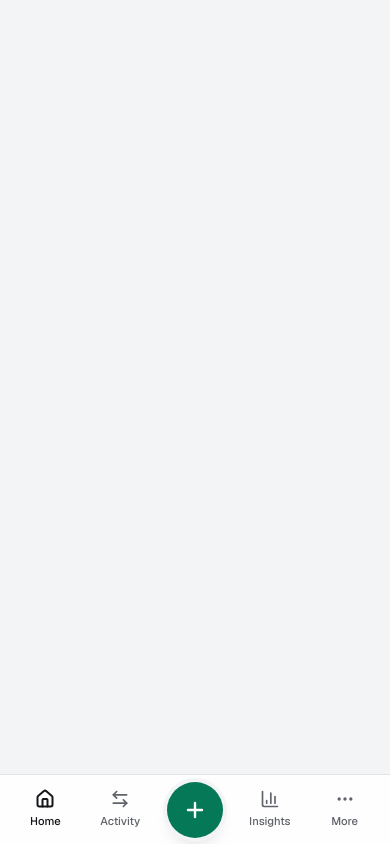
Test: MobileTabBar › More lists every page that is not a tab, and log out
Click the button "More" at (345, 810), box [307, 781, 382, 838]
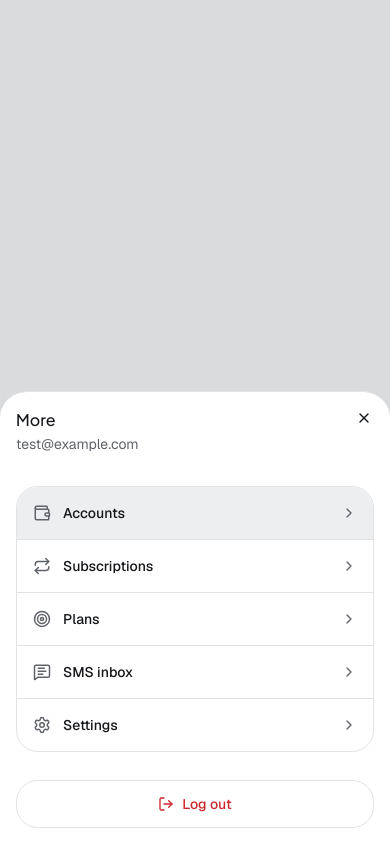
Now the link "Accounts" is shown, box [17, 487, 373, 539]
Now the link "Subscriptions" is shown, box [33, 557, 357, 575]
Now the link "Plans" is shown, box [33, 610, 357, 628]
